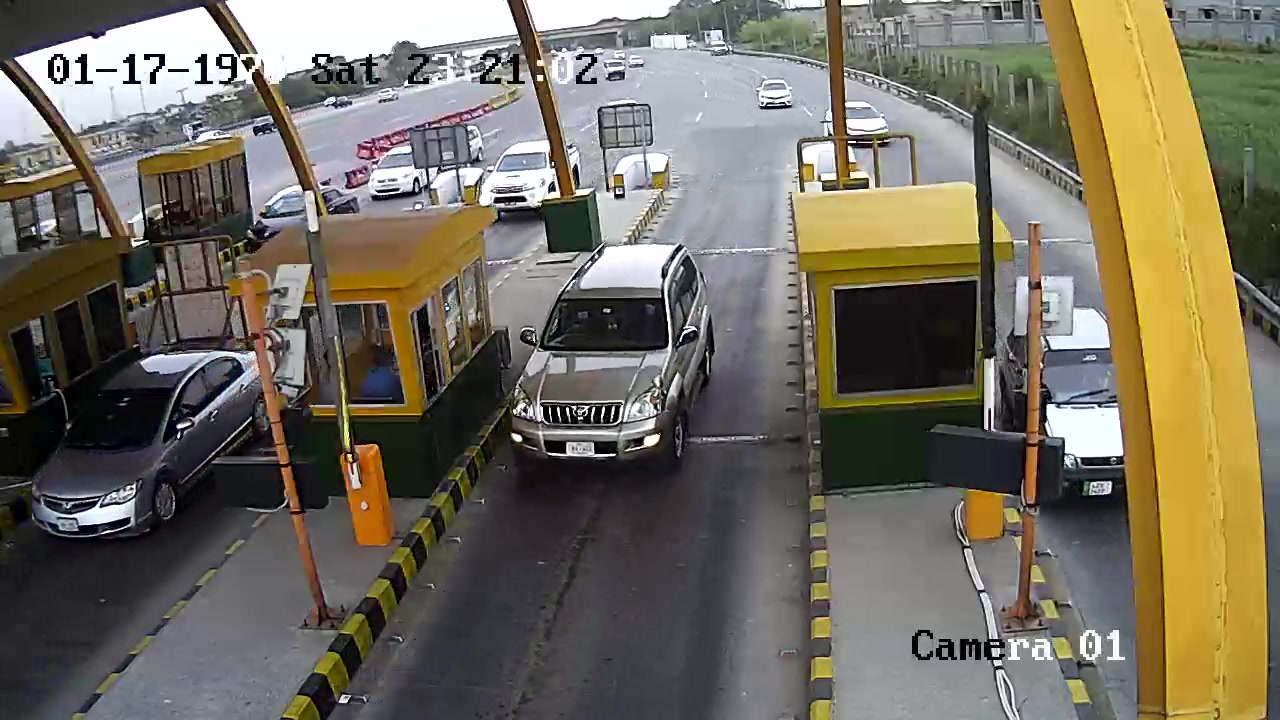F1: (509, 241, 718, 485)
